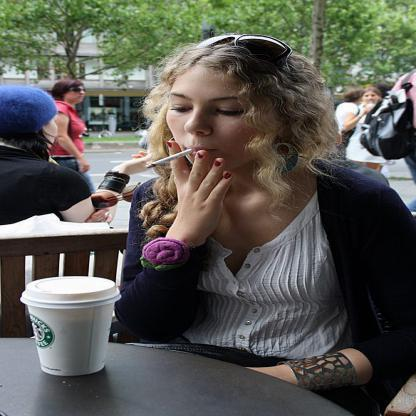cigarette: (142, 147, 196, 171)
person: (119, 32, 416, 380), (0, 84, 91, 227), (54, 78, 93, 144)
